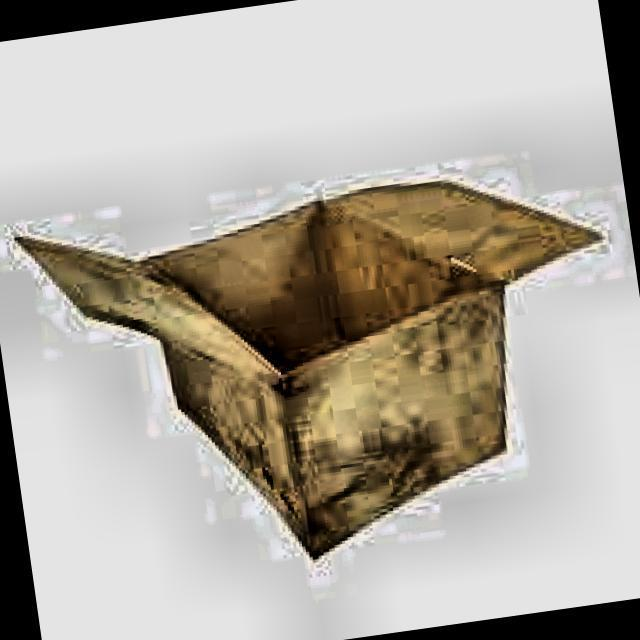cardboard: (10, 148, 640, 595)
